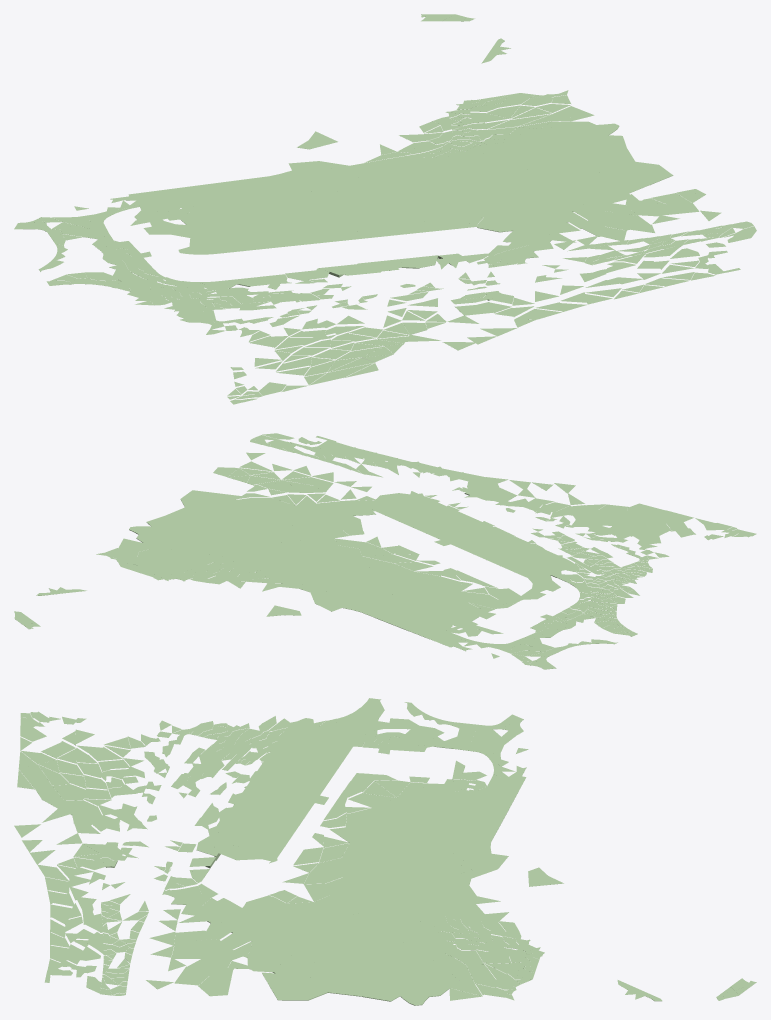
3 renders of one model, top to bottom at view 1: azimuth 30°, elevation 25°; view 2: azimuth 150°, elevation 25°; view 3: azimuth 270°, elevation 25°, orthographic. The views are drawn at different scales.
Visible parts, largest first — view 1: 2070_waterlevel — 2070_100y_Storm_24h; view 2: 2070_waterlevel — 2070_100y_Storm_24h; view 3: 2070_waterlevel — 2070_100y_Storm_24h.
Boxes of the visible parts, <box> form: 2070_waterlevel — 2070_100y_Storm_24h: <box>14,14,756,404</box>; 2070_waterlevel — 2070_100y_Storm_24h: <box>14,433,756,669</box>; 2070_waterlevel — 2070_100y_Storm_24h: <box>14,698,756,1005</box>.
Size of the model in its own units: 0.00305 by 0.000175 by 0.00311.
